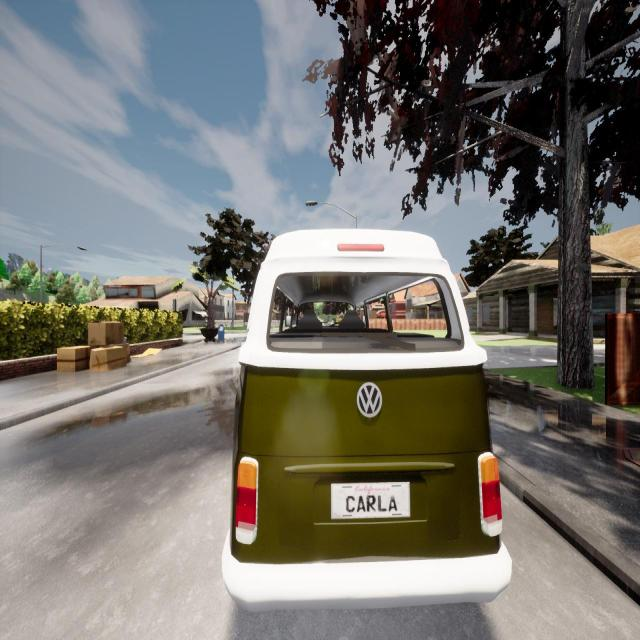Vehicle: (222, 229, 511, 610)
traffic_light: (173, 299, 176, 312)
